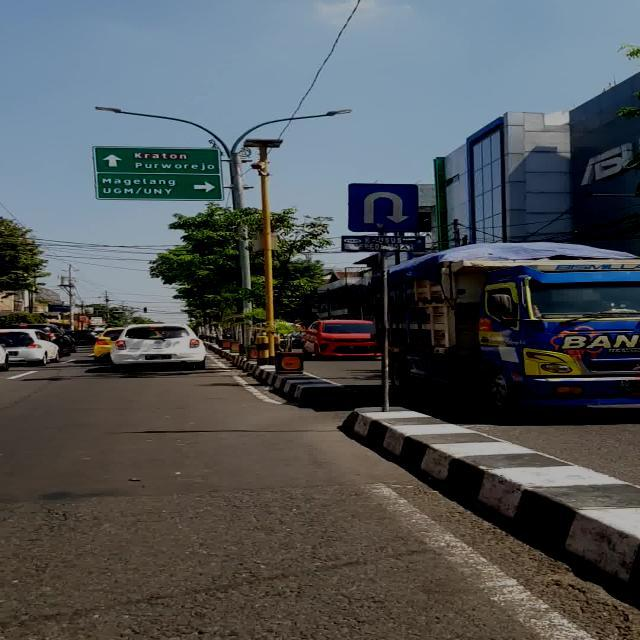Putar Balik: (348, 184, 419, 232)
